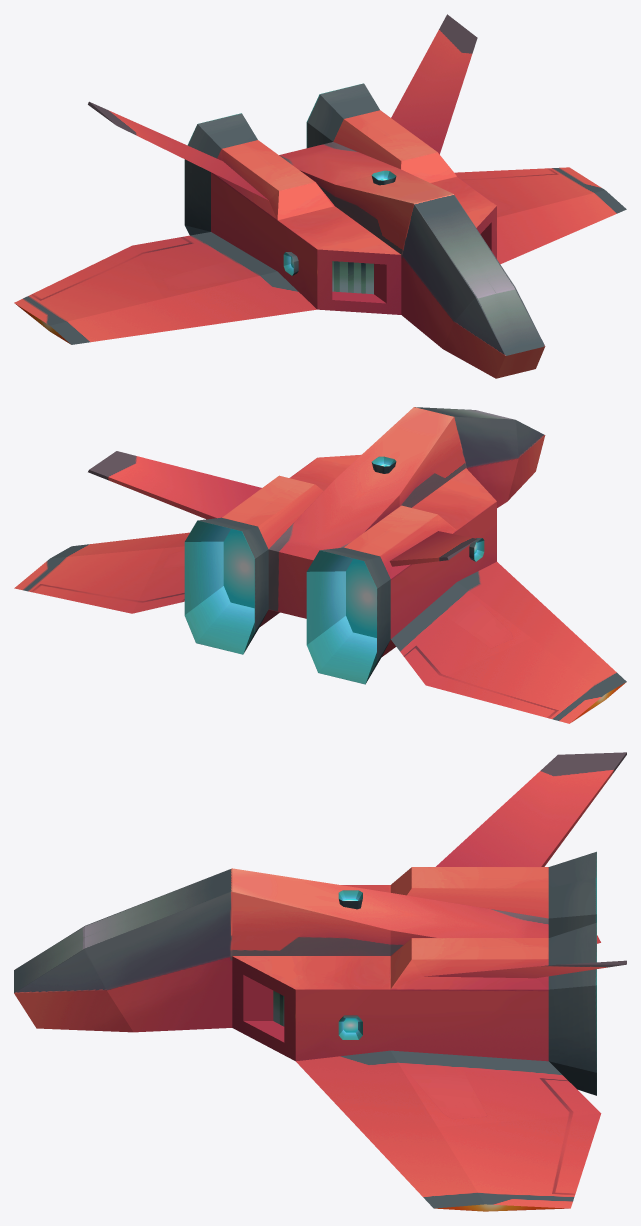
The model's file is simple_spaceship.gltf.
3 renders of one model, top to bottom at view 1: azimuth 30°, elevation 25°; view 2: azimuth 150°, elevation 25°; view 3: azimuth 270°, elevation 25°, orthographic. The views are drawn at different scales.
Parts seen in each view (by area): view 1: SimpleSpaceshipMesh; view 2: SimpleSpaceshipMesh; view 3: SimpleSpaceshipMesh.
Boxes of the visible parts, x1=… form: SimpleSpaceshipMesh: x1=14, y1=14, x2=626, y2=378; SimpleSpaceshipMesh: x1=14, y1=407, x2=626, y2=723; SimpleSpaceshipMesh: x1=14, y1=752, x2=626, y2=1211.
Bounding box in the file's own units: 4.83 × 1.35 × 3.87.
Materials: 1 (1 with a texture image).
